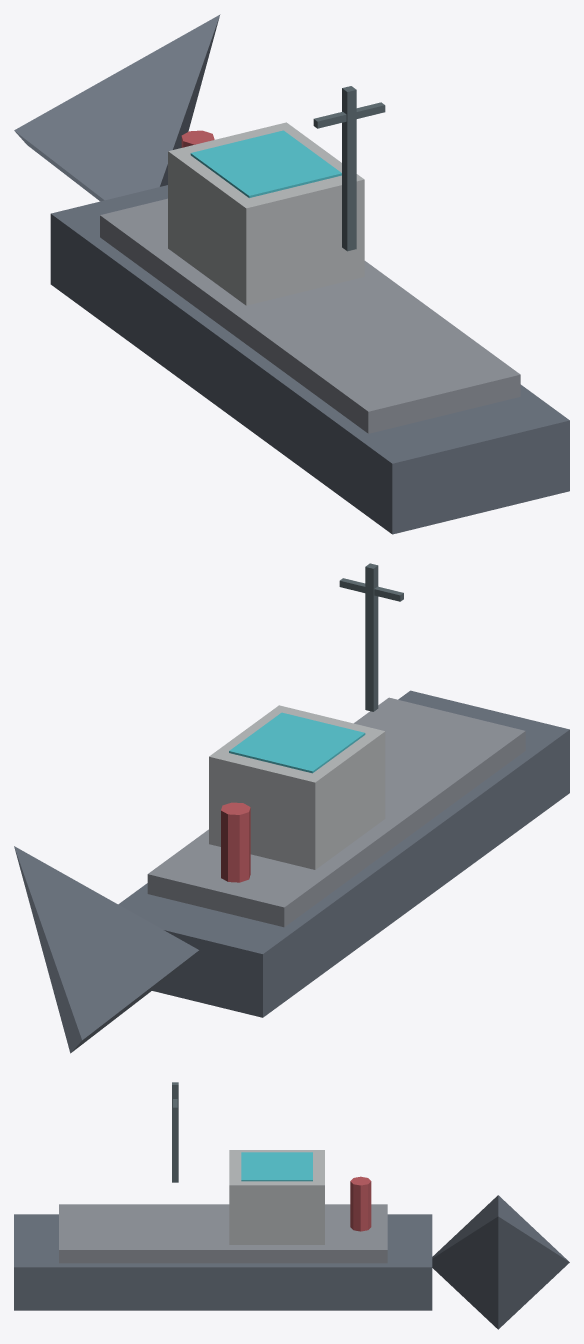
Rendered from ship.glb.
The picture shows the model from 3 angles, top to bottom: view 1: azimuth 30°, elevation 25°; view 2: azimuth 150°, elevation 25°; view 3: azimuth 270°, elevation 25°; orthographic projection. The views are drawn at different scales.
Parts seen in each view (by area): view 1: p0, p2, p3, p1, p4, p5, p6; view 2: p0, p2, p3, p1, p4, p7, p5; view 3: p0, p2, p1, p3, p4, p7, p5.
Boxes of the visible parts, <box> form: p0: <box>50,185,569,534</box>; p2: <box>100,198,520,433</box>; p3: <box>168,122,364,305</box>; p1: <box>14,14,220,201</box>; p4: <box>190,130,341,197</box>; p5: <box>342,86,356,251</box>; p6: <box>313,102,385,128</box>; p0: <box>118,690,569,1017</box>; p2: <box>147,697,525,927</box>; p3: <box>209,705,385,869</box>; p1: <box>14,846,198,1053</box>; p4: <box>229,712,365,773</box>; p7: <box>221,802,250,882</box>; p5: <box>365,563,378,711</box>; p0: <box>14,1214,432,1310</box>; p2: <box>59,1204,387,1263</box>; p1: <box>432,1195,569,1329</box>; p3: <box>229,1150,324,1244</box>; p4: <box>241,1152,312,1181</box>; p7: <box>350,1176,371,1231</box>; p5: <box>172,1082,178,1182</box>.
Bounding box in the file's own units: 5.28 × 8.3 × 18.6.
